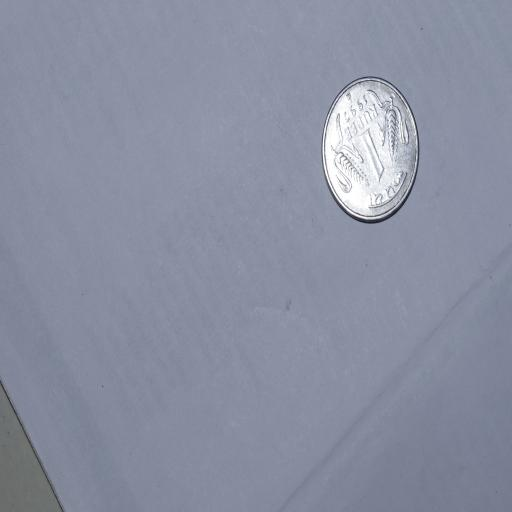rupee1: (317, 76, 422, 231)
